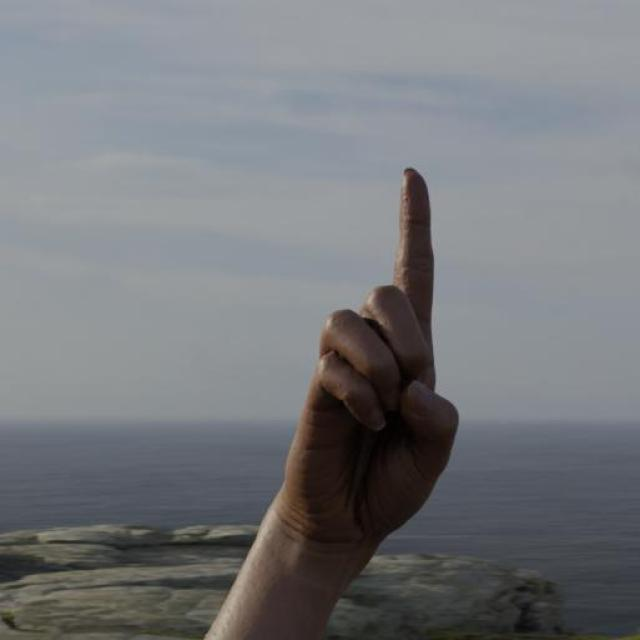D: (279, 162, 461, 549)
